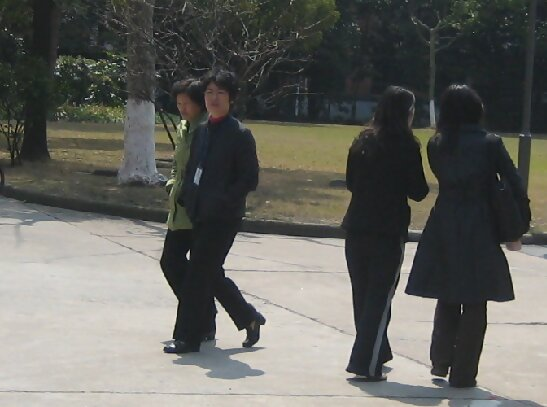person: (417, 83, 532, 391), (163, 67, 276, 361), (332, 78, 427, 386), (172, 75, 209, 318)
